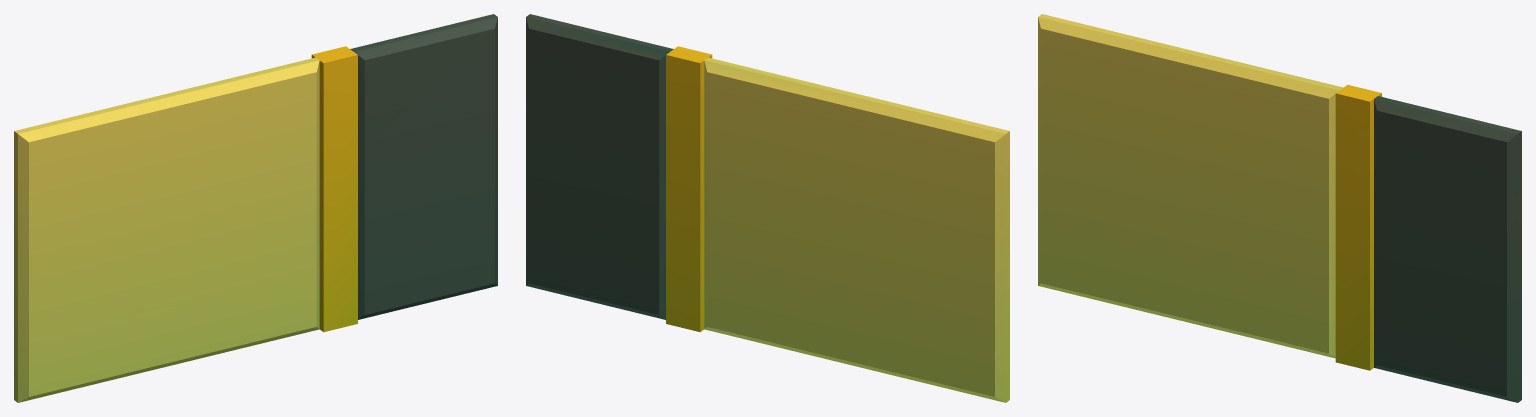
Rendered from Prop_Ticket.fbx.
The picture shows the model from 3 angles, left to right: view 1: azimuth 30°, elevation 25°; view 2: azimuth 150°, elevation 25°; view 3: azimuth 330°, elevation 25°; orthographic projection.
Parts seen in each view (by area): view 1: Prop_Ticket; view 2: Prop_Ticket; view 3: Prop_Ticket.
Part boxes in pixels (bbox=[...]): Prop_Ticket: bbox=[14, 14, 497, 402]; Prop_Ticket: bbox=[526, 14, 1009, 402]; Prop_Ticket: bbox=[1038, 14, 1521, 402].
Bounding box in the file's own units: 0.14 × 0.075 × 0.006.
